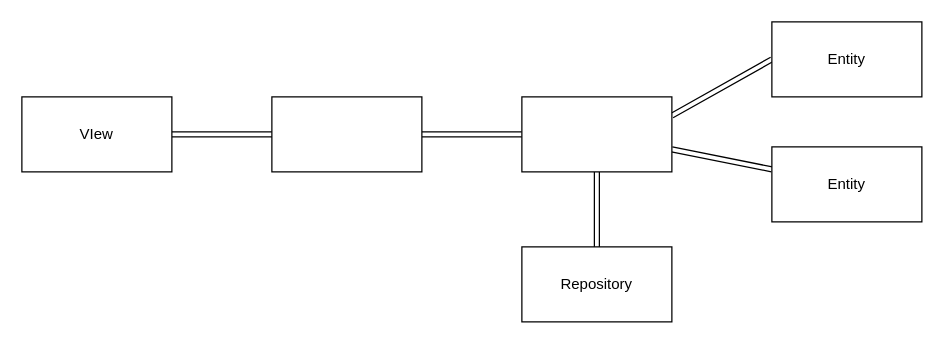
The diagram is 944 pixels wide and 344 high, and some of its shapes have lost their labels. The centre of each missing label's shape, as x and y in pixels:
"Interator" goes at [596,134].
"Presenter" goes at [346,134].
